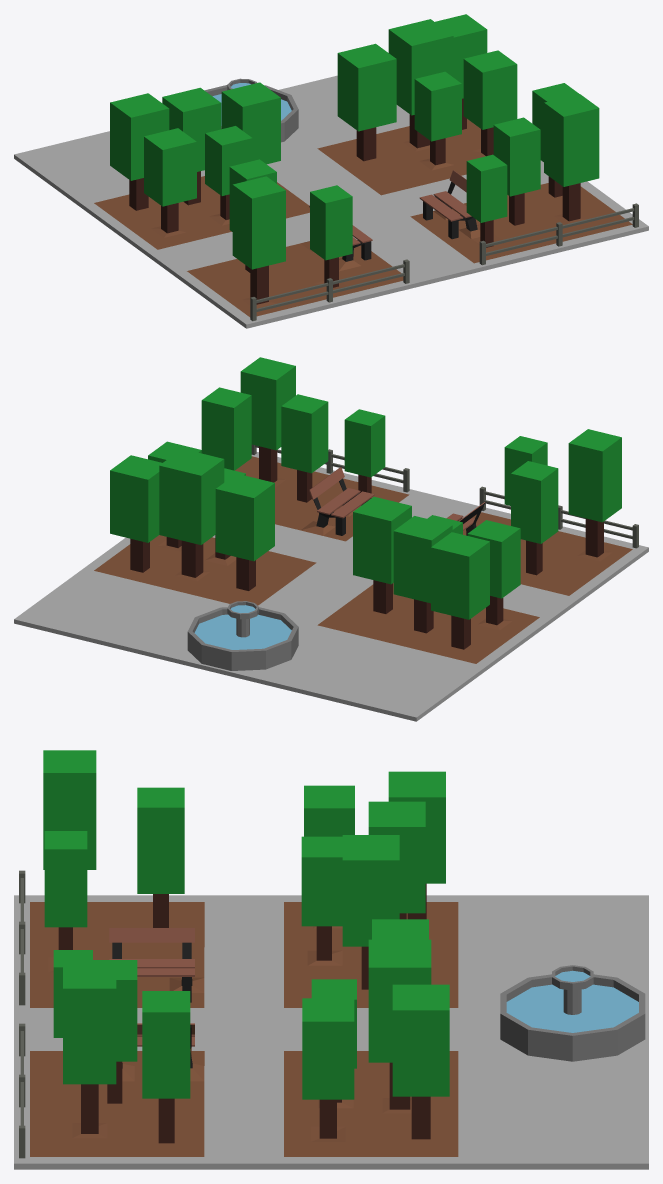
Rendered from Budynek06.fbx.
3 renders of one model, top to bottom at view 1: azimuth 30°, elevation 25°; view 2: azimuth 150°, elevation 25°; view 3: azimuth 270°, elevation 25°, orthographic. The views are drawn at different scales.
Parts seen in each view (by area): view 1: Tree Type5 02 Model; view 2: Tree Type5 02 Model; view 3: Tree Type5 02 Model.
Part boxes in pixels (x1,y1,x2,y2): Tree Type5 02 Model: (14, 14, 648, 328); Tree Type5 02 Model: (14, 357, 648, 721); Tree Type5 02 Model: (14, 750, 648, 1169).
Bounding box in the file's own units: 500 × 140 × 500.
